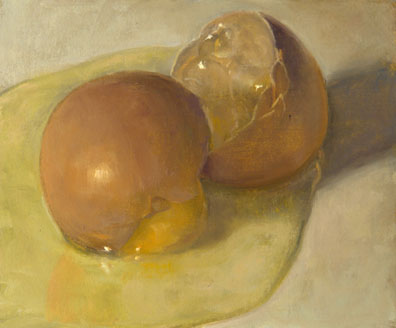egg: (40, 68, 212, 253), (168, 10, 330, 191)
